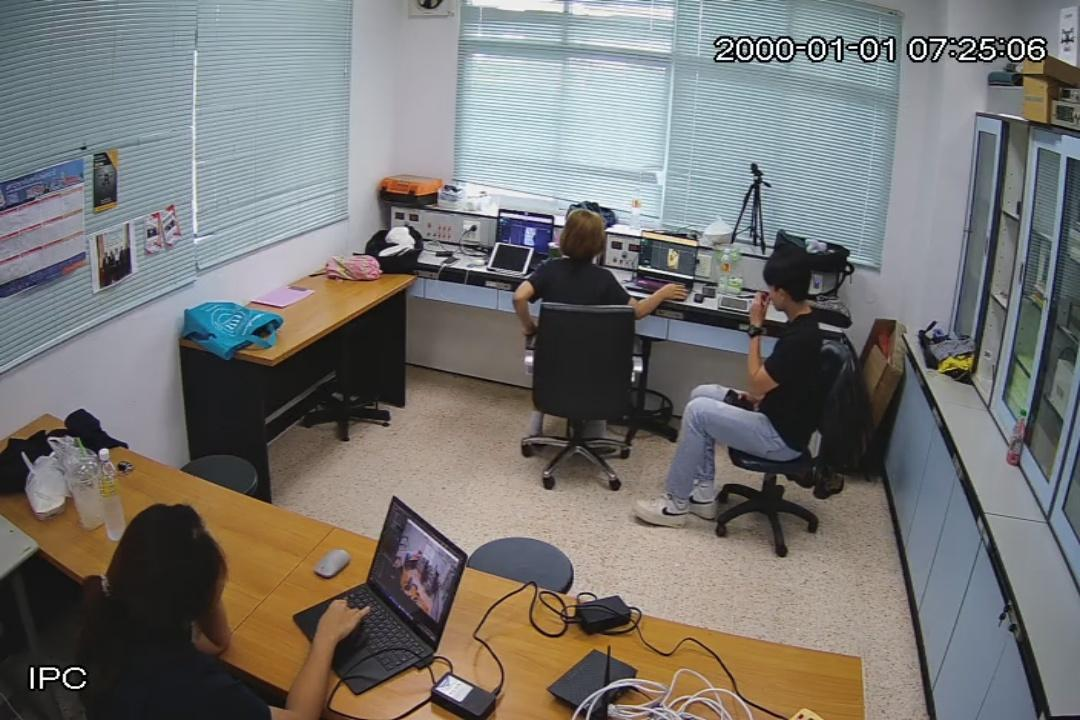normal: (634, 250, 817, 529), (513, 206, 681, 449)
